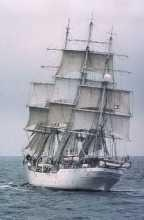fanchuan: (19, 16, 144, 187)
